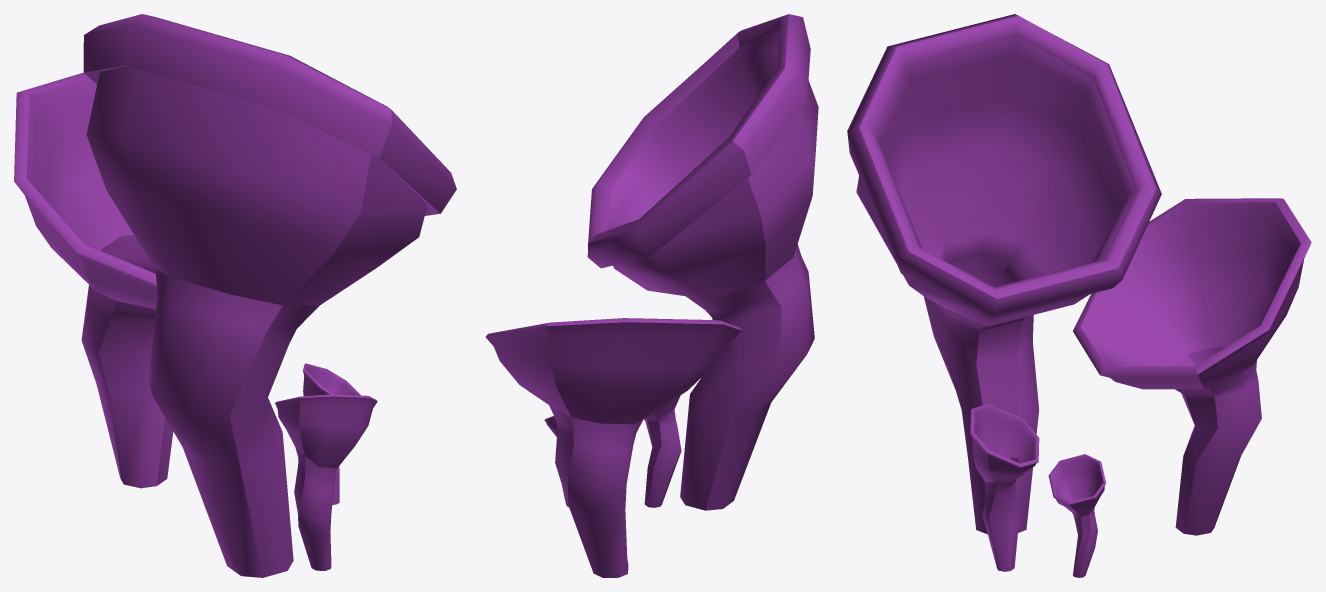
Rendered from Alien_plant04.fbx.
3 views of the same model, side by side, from view 1: azimuth 30°, elevation 25°; view 2: azimuth 150°, elevation 25°; view 3: azimuth 270°, elevation 25° (orthographic). The views are drawn at different scales.
Visible parts, largest first — view 1: Champi_Base_03, Champi_Base_04, Champi_Base_06, Champi_Base_05; view 2: Champi_Base_03, Champi_Base_04, Champi_Base_06; view 3: Champi_Base_03, Champi_Base_04, Champi_Base_06, Champi_Base_05.
Part boxes in pixels (x1,y1,x2,y2): Champi_Base_03: (83, 14, 456, 577); Champi_Base_04: (14, 73, 173, 488); Champi_Base_06: (275, 394, 377, 570); Champi_Base_05: (303, 363, 360, 504); Champi_Base_03: (587, 14, 818, 510); Champi_Base_04: (485, 318, 742, 577); Champi_Base_06: (644, 395, 681, 507); Champi_Base_03: (847, 14, 1161, 534); Champi_Base_04: (1073, 198, 1311, 535); Champi_Base_06: (970, 404, 1039, 571); Champi_Base_05: (1048, 454, 1105, 577).
Size of the model in its own units: 0.8802 by 1.75 by 1.52.
